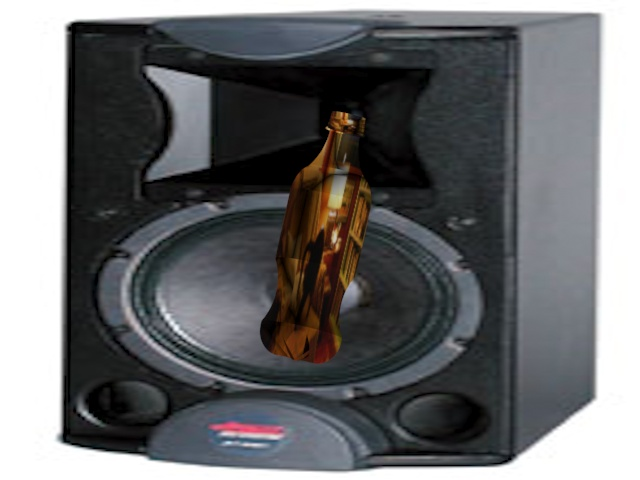bottle: (257, 105, 385, 369)
